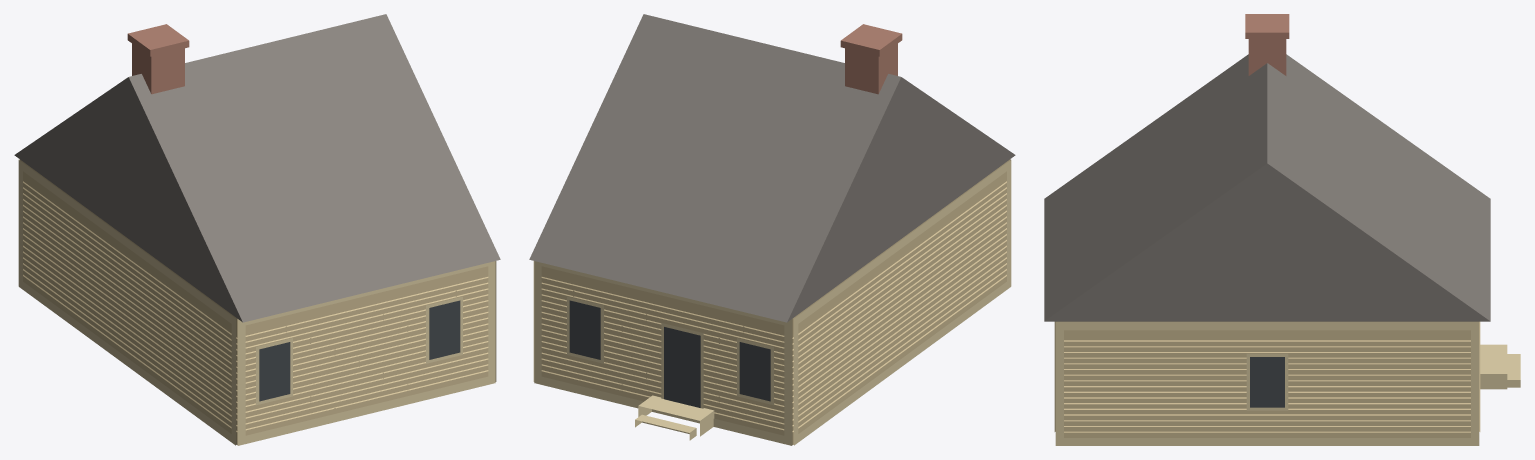
Rendered from recon_1835_blk_south_water_wells_d5_02__inferred_1835.glb.
The picture shows the model from 3 angles, left to right: view 1: azimuth 30°, elevation 25°; view 2: azimuth 150°, elevation 25°; view 3: azimuth 270°, elevation 25°; orthographic projection. The views are drawn at different scales.
Parts seen in each view (by area): view 1: recon_1835_blk_south_water_wells_d5_02__inferred_1835; view 2: recon_1835_blk_south_water_wells_d5_02__inferred_1835; view 3: recon_1835_blk_south_water_wells_d5_02__inferred_1835.
Part boxes in pixels (left/top/right/bottom): recon_1835_blk_south_water_wells_d5_02__inferred_1835: left=14, top=14, right=500, bottom=445; recon_1835_blk_south_water_wells_d5_02__inferred_1835: left=529, top=14, right=1015, bottom=445; recon_1835_blk_south_water_wells_d5_02__inferred_1835: left=1044, top=14, right=1520, bottom=445.
Size of the model in its own units: 6.55 by 7.71 by 10.62.
